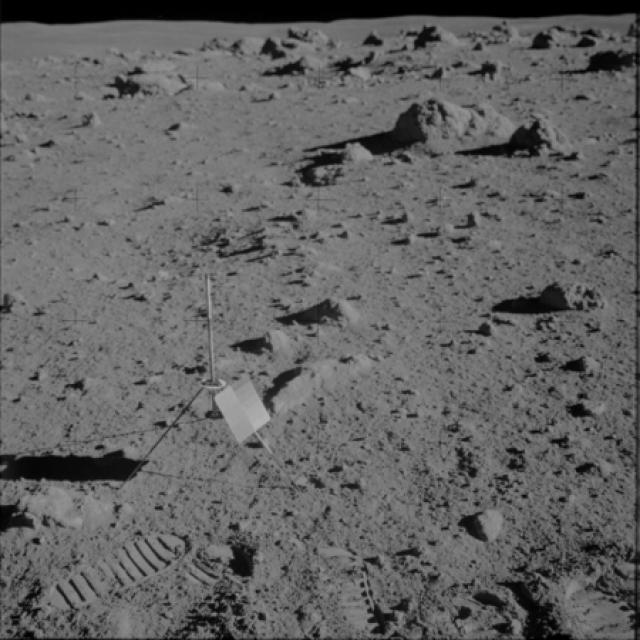crater: (91, 182, 179, 227)
rock: (381, 90, 506, 166), (258, 343, 381, 412), (4, 476, 111, 535), (248, 203, 330, 263), (505, 104, 592, 157), (525, 274, 609, 321), (304, 282, 370, 332), (97, 72, 180, 108), (196, 34, 310, 56), (458, 502, 510, 542), (315, 133, 375, 166), (466, 20, 520, 56), (582, 42, 638, 76), (409, 19, 461, 53), (0, 284, 44, 323), (339, 44, 382, 83), (303, 162, 354, 192), (567, 394, 610, 424), (285, 22, 334, 47), (535, 25, 574, 56), (468, 53, 506, 84), (268, 52, 315, 75), (574, 24, 616, 49), (254, 325, 286, 356), (156, 119, 189, 143), (568, 351, 598, 374), (76, 112, 109, 131), (367, 19, 388, 48), (432, 60, 456, 82)
